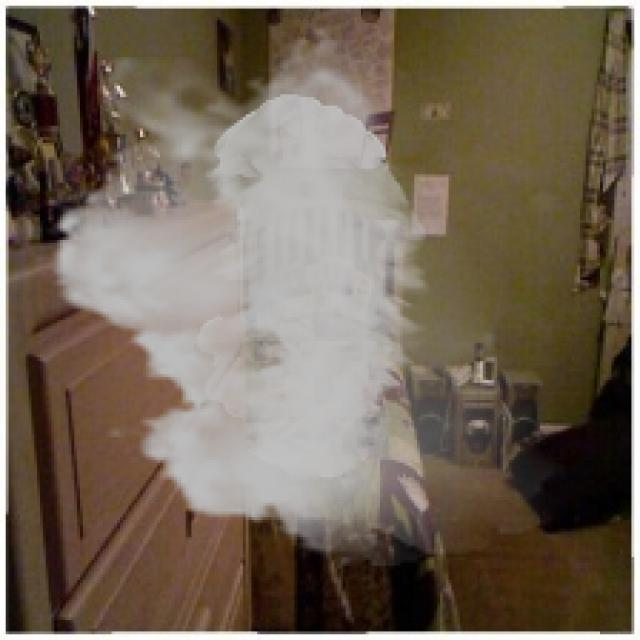Smoke: (31, 23, 583, 566)
